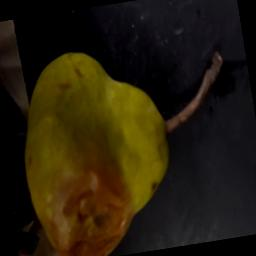Pear Rotten: (4, 20, 256, 256)
